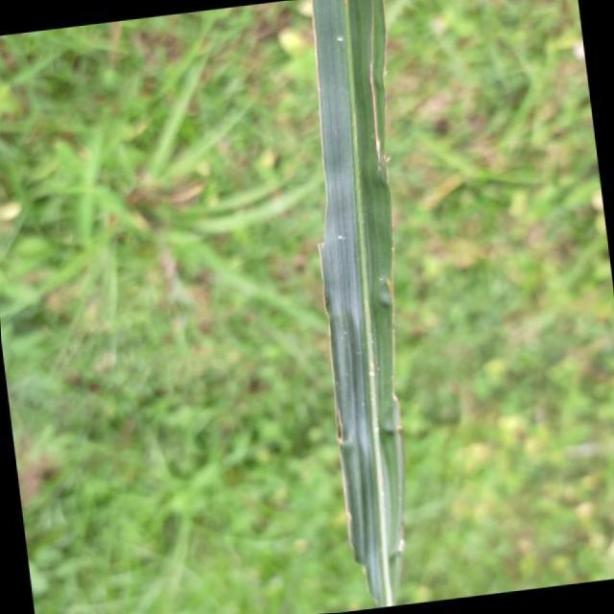Boron: (304, 0, 404, 608)
